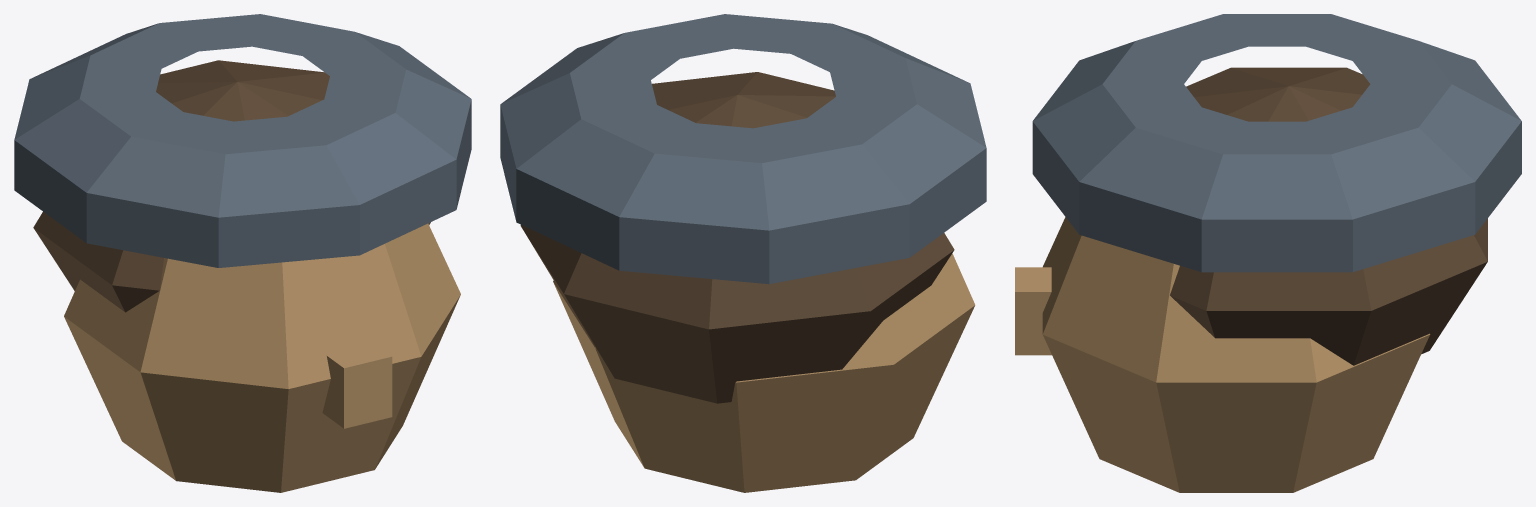
Rendered from villager-head-headpad.glb.
3 renders of one model, left to right at view 1: azimuth 30°, elevation 25°; view 2: azimuth 150°, elevation 25°; view 3: azimuth 270°, elevation 25°, orthographic. The views are drawn at different scales.
Parts seen in each view (by area): view 1: head; view 2: head; view 3: head.
Boxes of the visible parts, left/top/right/bottom form: head: left=14, top=14, right=471, bottom=492; head: left=500, top=14, right=986, bottom=492; head: left=1015, top=14, right=1521, bottom=492.
Size of the model in its own units: 0.7989 by 0.7701 by 0.87.
Materials: 1 (1 with a texture image).
